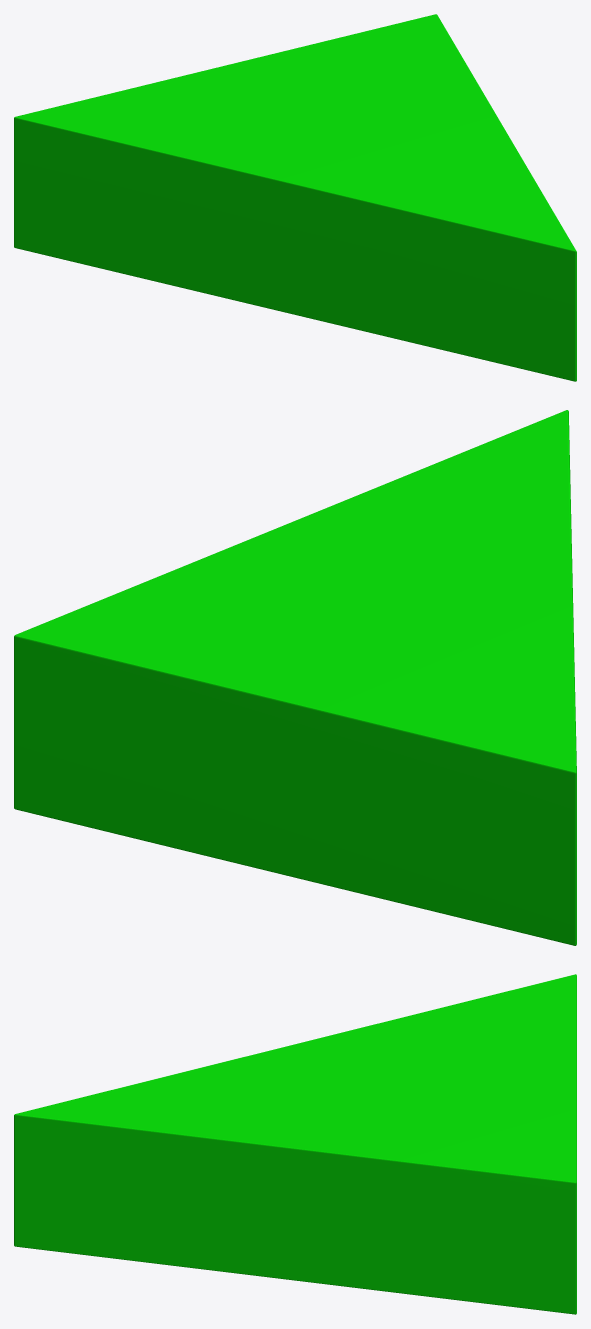
File: Obstacle_06.fbx
3 views of the same model, one above another, from view 1: azimuth 30°, elevation 25°; view 2: azimuth 150°, elevation 25°; view 3: azimuth 270°, elevation 25° (orthographic). The views are drawn at different scales.
Parts seen in each view (by area): view 1: Obstacle_06; view 2: Obstacle_06; view 3: Obstacle_06.
Part boxes in pixels (box(x1,y1,x2,y2)): Obstacle_06: box(14, 14, 576, 381); Obstacle_06: box(14, 410, 576, 945); Obstacle_06: box(14, 974, 576, 1314).
Size of the model in its own units: 3.37 by 1 by 3.85.
